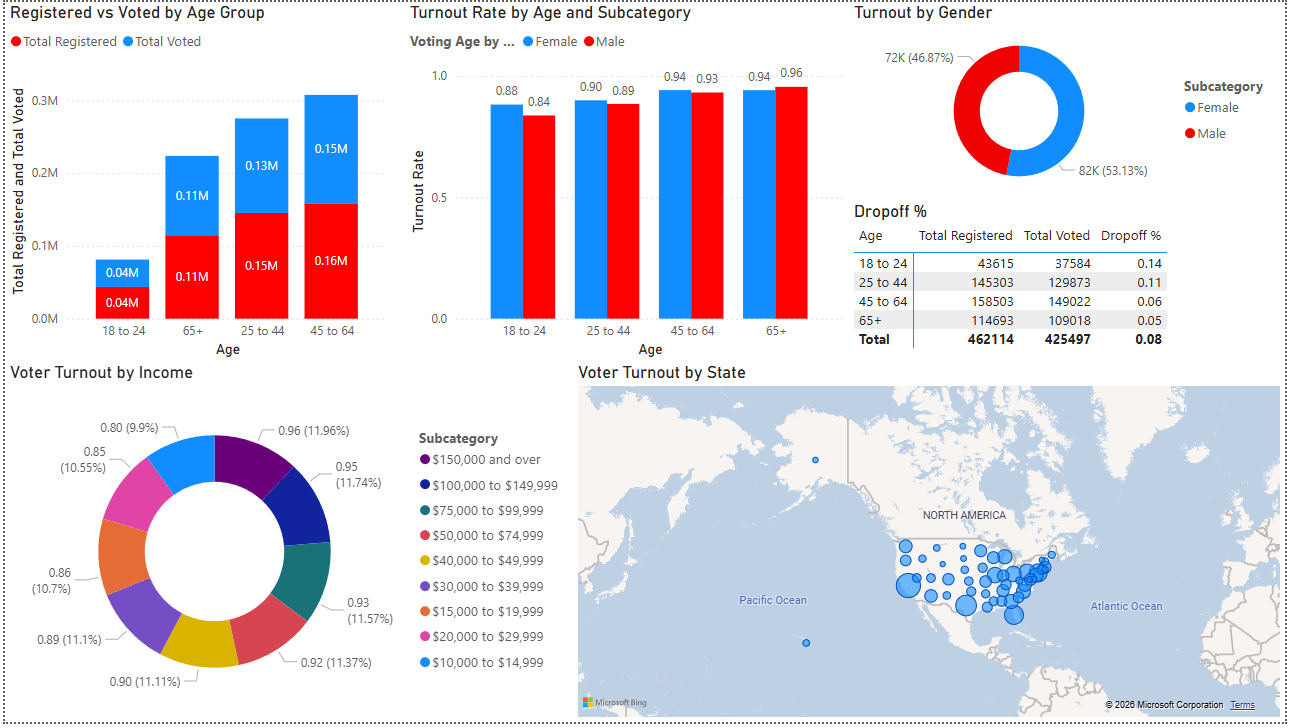

The page's visual inventory and layout, read from the dashboard file:
{"tool":"powerbi","page":{"name":"Page 1","canvas":[1280,720],"ordinal":0},"visuals":[{"type":"clusteredColumnChart","fields":{"Category":["Voting Dashboard - All Data (1).Age"],"Series":["Voting Dashboard - All Data (1).Subcategory"],"Y":["Voting Dash.Turnout Rate"]},"box":[399.8,0,444.5,359.9],"z":0},{"type":"columnChart","title":"Registered vs Voted by Age Group","fields":{"Category":["Voting Dash.Age"],"Y":["Voting Dash.Total Registered","Voting Dash.Total Voted"]},"box":[0,0,388.1,359.9],"z":1000},{"type":"map","title":"Voter Turnout by State","fields":{"Category":["Voting Dash.Subcategory"],"Size":["Voting Dash.Total Voted"]},"box":[568,359.9,712,359.9],"z":2000},{"type":"donutChart","title":"Turnout by Gender","fields":{"Category":["Voting Dash.Subcategory"],"Y":["Voting Dash.Total Voted"]},"box":[844.3,0,435.7,199.4],"z":3000},{"type":"pivotTable","title":"Dropoff %","fields":{"Rows":["Voting Dash.Age"],"Values":["Voting Dash.Total Registered","Voting Dash.Total Voted","Voting Dash.Dropoff %"]},"box":[844.3,199.4,435.7,160.5],"z":4000},{"type":"donutChart","title":"Voter Turnout by Income","fields":{"Category":["Voting Dash.Subcategory"],"Y":["Voting Dash.Turnout Rate"]},"box":[0,359.9,568,359.9],"z":5000}]}

Visuals, with their boxes in screenshot pixels (x1, y1, x2, y2), scaled from the page's 1280x720 canvas onto the 1301x728 screenshot:
clusteredColumnChart - Voting Dashboard - All Data (1).Age x Voting Dashboard - All Data (1).Subcategory: <box>406,0,858,364</box>
"Registered vs Voted by Age Group" columnChart: <box>0,0,394,364</box>
"Voter Turnout by State" map: <box>577,364,1300,727</box>
"Turnout by Gender" donutChart: <box>858,0,1300,202</box>
"Dropoff %" pivotTable: <box>858,202,1300,364</box>
"Voter Turnout by Income" donutChart: <box>0,364,577,727</box>
